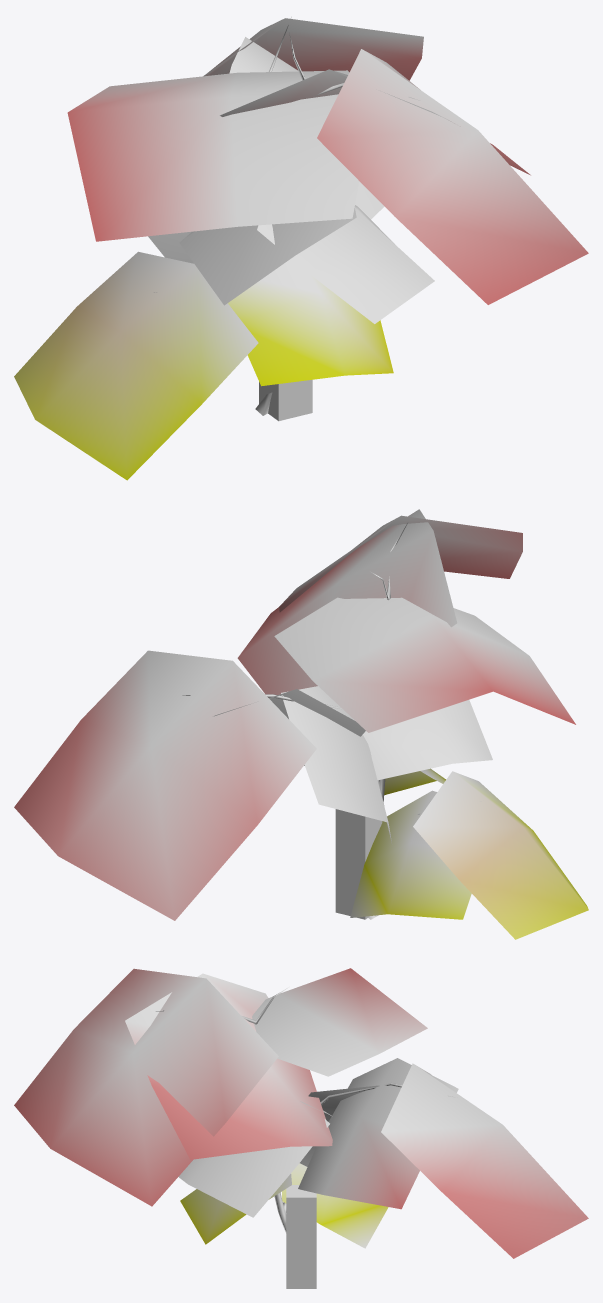
The model's file is BeechTree.fbx.
3 renders of one model, top to bottom at view 1: azimuth 30°, elevation 25°; view 2: azimuth 150°, elevation 25°; view 3: azimuth 270°, elevation 25°, orthographic. The views are drawn at different scales.
Parts seen in each view (by area): view 1: BeechTree_LOD0, BeechTree_Trunk_COL; view 2: BeechTree_LOD0, BeechTree_Trunk_COL; view 3: BeechTree_LOD0, BeechTree_Trunk_COL.
Part boxes in pixels (x1,y1,x2,y2): BeechTree_LOD0: (14,17,588,480); BeechTree_Trunk_COL: (259,379,312,421); BeechTree_LOD0: (14,509,588,939); BeechTree_Trunk_COL: (335,809,382,919); BeechTree_LOD0: (14,968,588,1258); BeechTree_Trunk_COL: (286,1185,316,1288).
Bounding box in the file's own units: 9.05 × 6.78 × 11.43.
